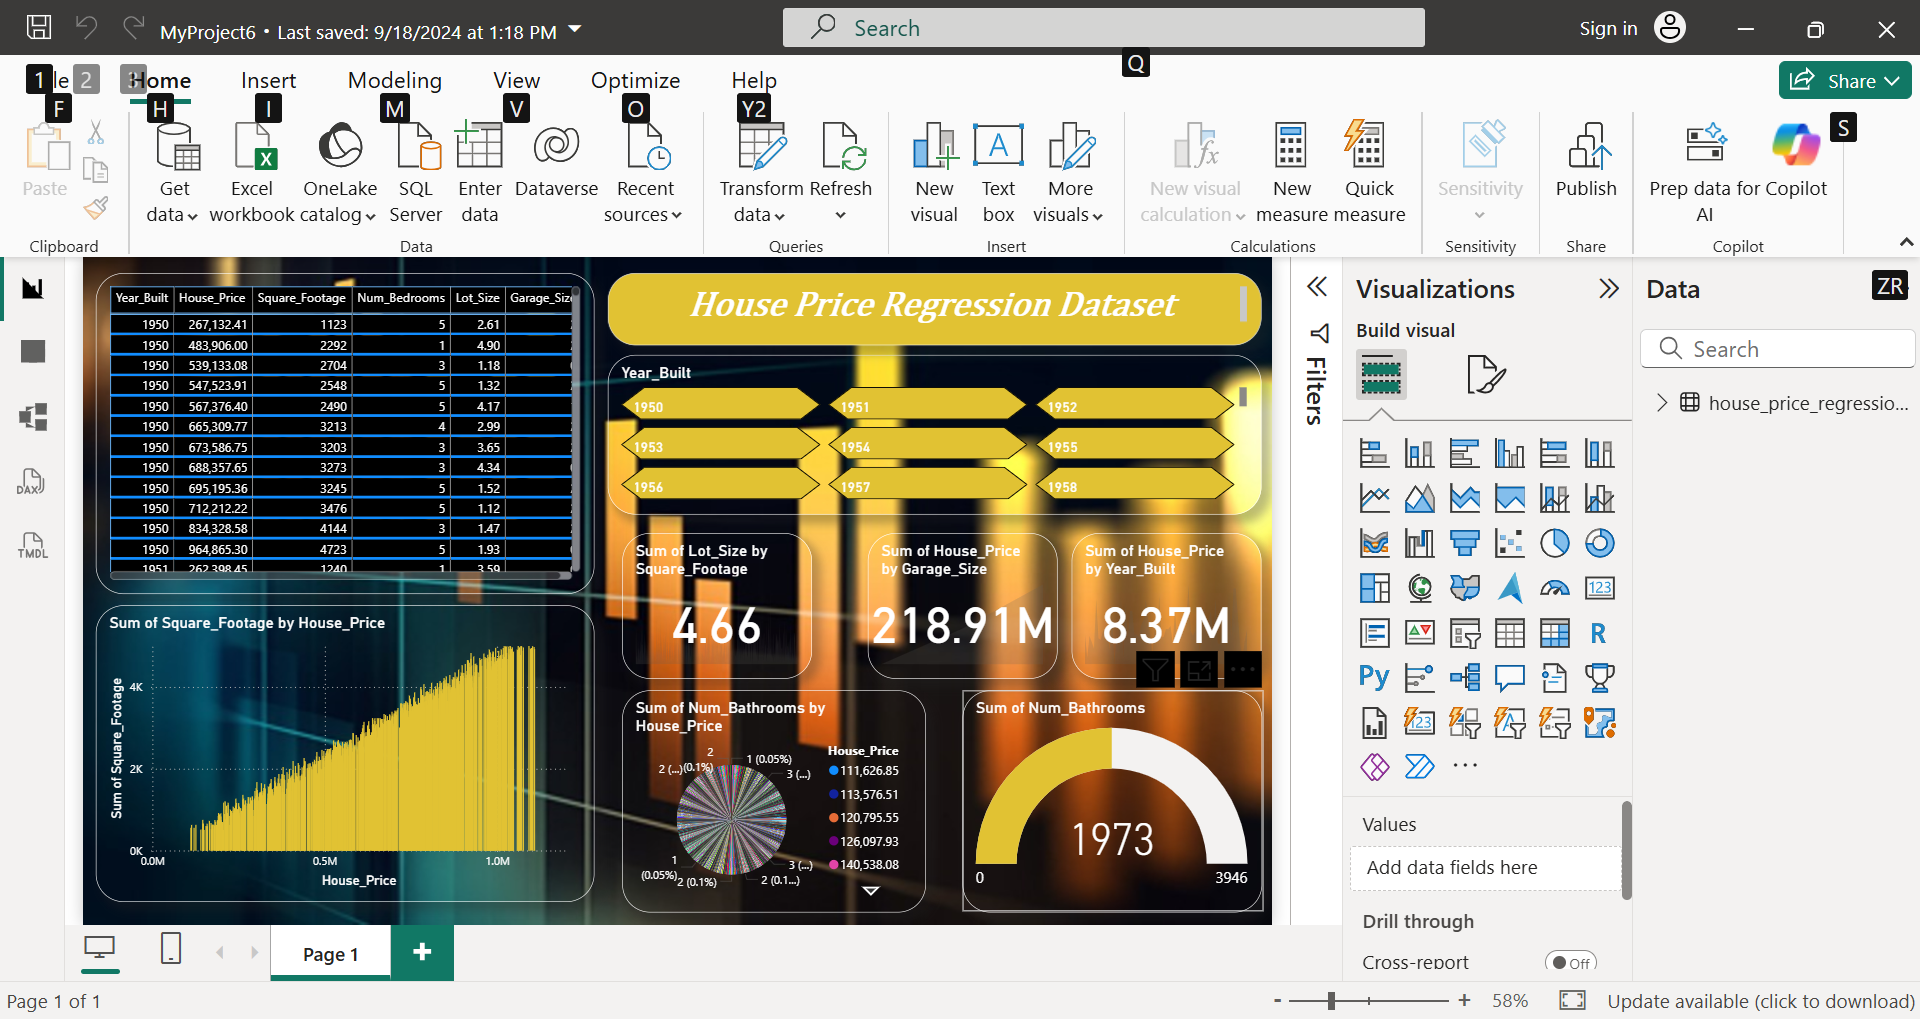

The page's visual inventory and layout, read from the dashboard file:
{"tool":"powerbi","page":{"name":"Page 1","canvas":[1280,720],"ordinal":0},"visuals":[{"type":"tableEx","fields":{"Values":["house_price_regression_dataset (2).Year_Built","house_price_regression_dataset (2).House_Price","house_price_regression_dataset (2).Square_Footage","house_price_regression_dataset (2).Num_Bedrooms","house_price_regression_dataset (2).Lot_Size","house_price_regression_dataset (2).Garage_Size"]},"box":[14.4,17.3,537.1,345.6],"z":0},{"type":"columnChart","fields":{"Category":["house_price_regression_dataset (2).House_Price"],"Y":["Sum(house_price_regression_dataset (2).Square_Footage)"]},"box":[14.4,375.8,537.1,319.7],"z":1000},{"type":"advancedSlicerVisual","fields":{"Values":["house_price_regression_dataset (2).Year_Built"]},"box":[565.9,105.1,704.2,172],"z":2000},{"type":"kpi","fields":{"Indicator":["Sum(house_price_regression_dataset (2).House_Price)"],"TrendLine":["house_price_regression_dataset (2).Year_Built"]},"box":[1065.6,296.6,204.5,157],"z":3000},{"type":"kpi","fields":{"Indicator":["Sum(house_price_regression_dataset (2).Lot_Size)"],"TrendLine":["house_price_regression_dataset (2).Square_Footage"]},"box":[580.3,296.6,204.5,157],"z":5000},{"type":"pieChart","fields":{"Y":["Sum(house_price_regression_dataset (2).Num_Bathrooms)"],"Series":["house_price_regression_dataset (2).House_Price"]},"box":[580.3,466.6,326.9,239],"z":6000},{"type":"gauge","fields":{"Y":["Sum(house_price_regression_dataset (2).Num_Bathrooms)"]},"box":[947.5,466.6,322.6,239],"z":7000},{"type":"textbox","box":[565.9,17.3,704.2,77.8],"z":8000},{"type":"kpi","fields":{"TrendLine":["house_price_regression_dataset (2).Garage_Size"],"Indicator":["Sum(house_price_regression_dataset (2).House_Price)"]},"box":[845.3,296.6,204.5,157],"z":8001}]}

Visuals, with their boxes on the page's 1280x720 design canvas (x1, y1, x2, y2). These are canvas units, not pixel positions in the 1920x1019 screenshot, which may show the page scaled, cropped or inside an application window:
tableEx - house_price_regression_dataset (2).Year_Built x house_price_regression_dataset (2).House_Price: pyautogui.locateOnScreen(14, 17, 552, 363)
columnChart - house_price_regression_dataset (2).House_Price x Sum(house_price_regression_dataset (2).Square_Footage): pyautogui.locateOnScreen(14, 376, 552, 696)
advancedSlicerVisual - house_price_regression_dataset (2).Year_Built: pyautogui.locateOnScreen(566, 105, 1270, 277)
kpi - Sum(house_price_regression_dataset (2).House_Price) x house_price_regression_dataset (2).Year_Built: pyautogui.locateOnScreen(1066, 297, 1270, 454)
kpi - Sum(house_price_regression_dataset (2).Lot_Size) x house_price_regression_dataset (2).Square_Footage: pyautogui.locateOnScreen(580, 297, 785, 454)
pieChart - Sum(house_price_regression_dataset (2).Num_Bathrooms) x house_price_regression_dataset (2).House_Price: pyautogui.locateOnScreen(580, 467, 907, 706)
gauge - Sum(house_price_regression_dataset (2).Num_Bathrooms): pyautogui.locateOnScreen(948, 467, 1270, 706)
textbox: pyautogui.locateOnScreen(566, 17, 1270, 95)
kpi - house_price_regression_dataset (2).Garage_Size x Sum(house_price_regression_dataset (2).House_Price): pyautogui.locateOnScreen(845, 297, 1050, 454)
